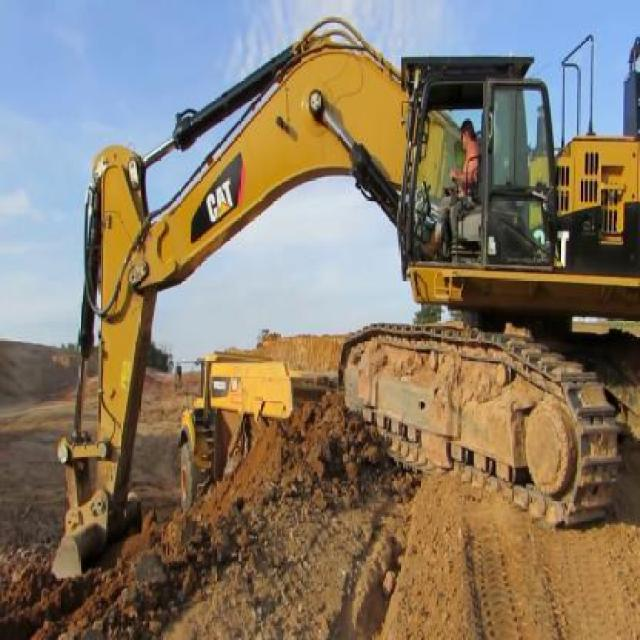dump_truck: (168, 345, 340, 513)
excavator: (38, 16, 639, 592)
